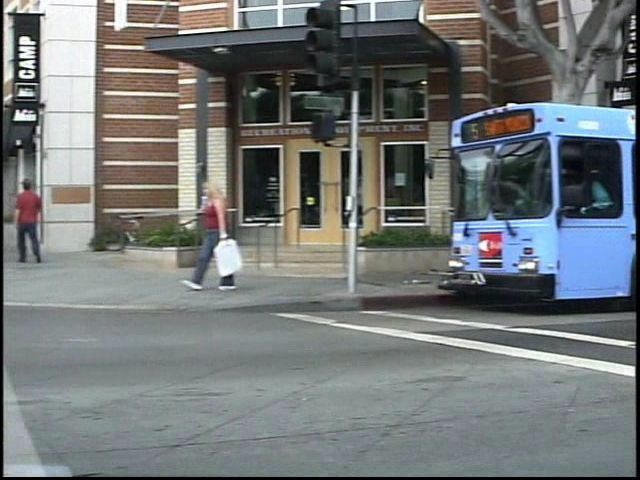person: (197, 177, 252, 296)
